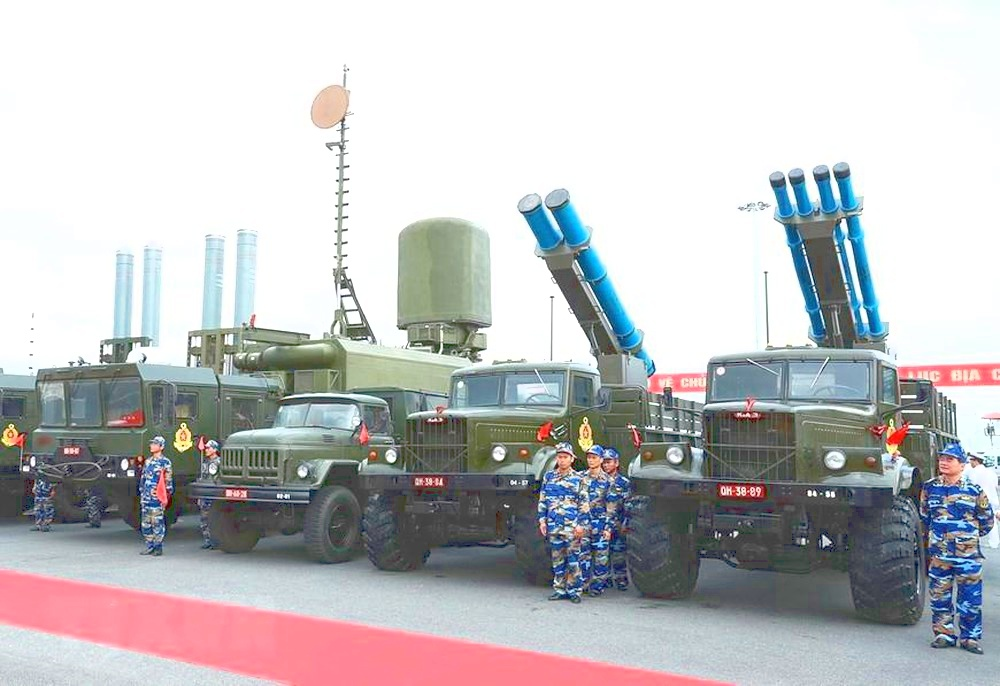plate: (409, 470, 452, 491), (717, 482, 768, 499), (222, 484, 250, 500), (61, 441, 83, 459)
